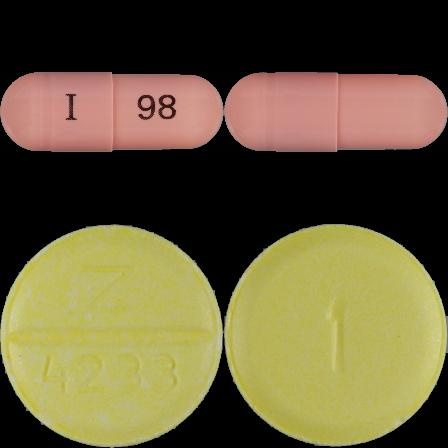33261-982: (0, 0, 224, 224)
